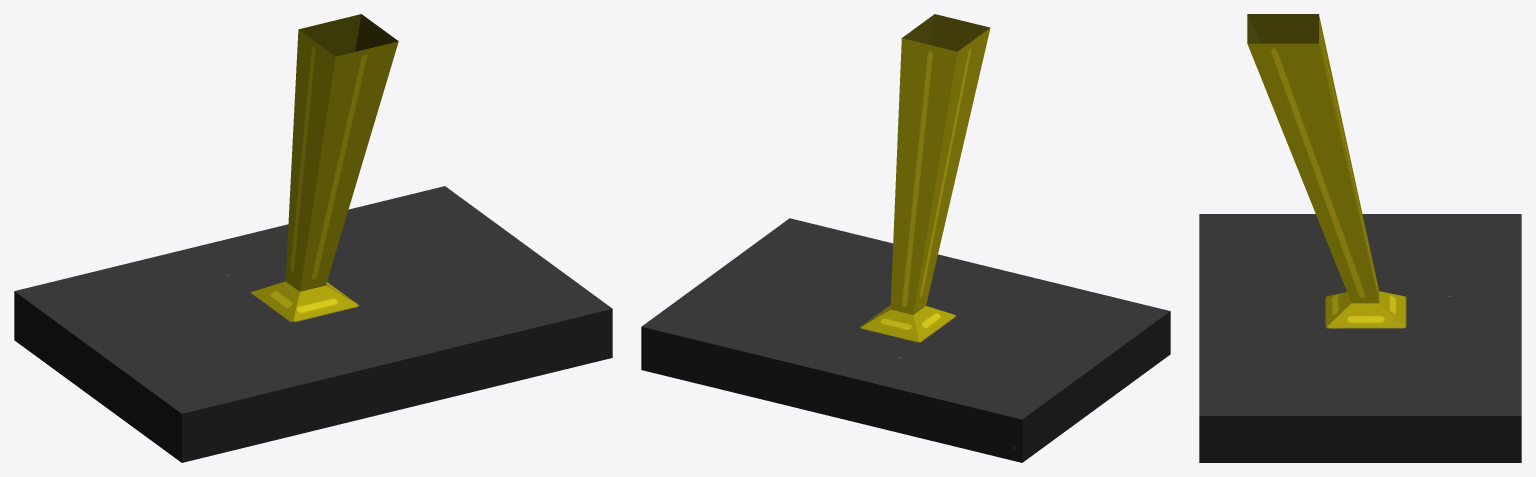
Rendered from pen_holder.FBX.
The picture shows the model from 3 angles, left to right: view 1: azimuth 30°, elevation 25°; view 2: azimuth 150°, elevation 25°; view 3: azimuth 270°, elevation 25°; orthographic projection. The views are drawn at different scales.
Visible parts, largest first — view 1: Box001; view 2: Box001; view 3: Box001.
Part boxes in pixels (x1,y1,x2,y2): Box001: (14,14,612,462); Box001: (641,14,1170,462); Box001: (1199,14,1521,462).
Size of the model in its own units: 37.96 by 29 by 25.59.
